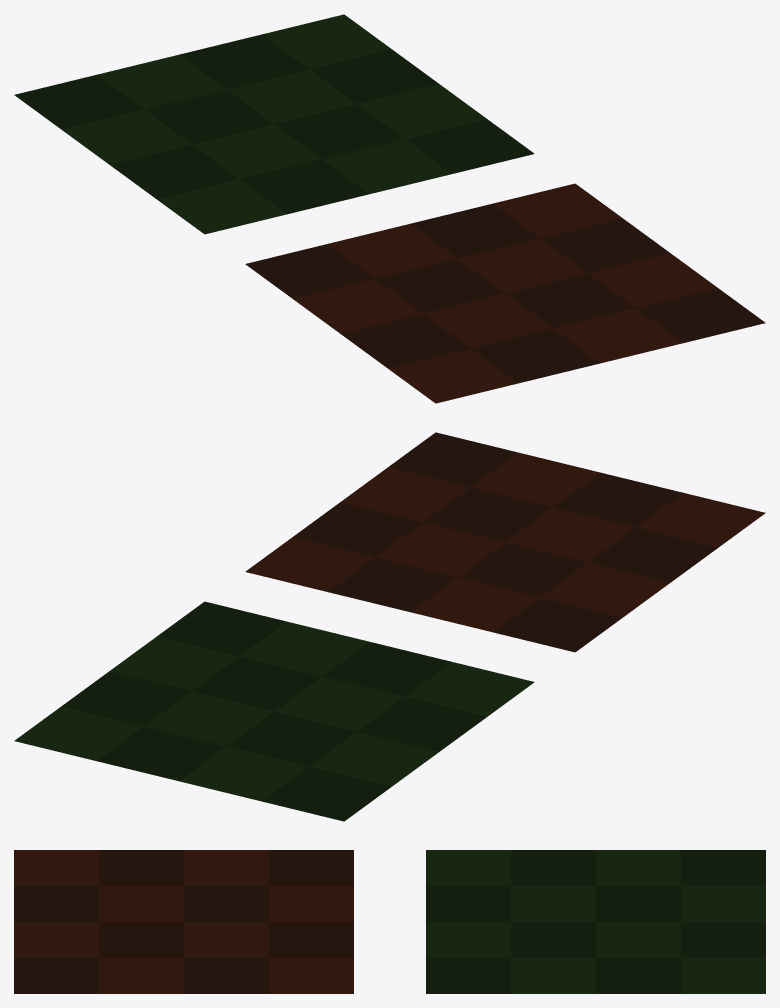
Rendered from FloorAndGrass.fbx.
3 renders of one model, top to bottom at view 1: azimuth 30°, elevation 25°; view 2: azimuth 150°, elevation 25°; view 3: azimuth 270°, elevation 25°, orthographic. The views are drawn at different scales.
Visible parts, largest first — view 1: Plane001, Plane002; view 2: Plane001, Plane002; view 3: Plane001, Plane002.
Boxes of the visible parts, bbox=[...] form: Plane001: bbox=[14, 14, 534, 234]; Plane002: bbox=[245, 183, 765, 403]; Plane001: bbox=[14, 601, 534, 821]; Plane002: bbox=[245, 432, 765, 652]; Plane001: bbox=[426, 850, 765, 993]; Plane002: bbox=[14, 850, 353, 993].
Bounding box in the file's own units: 118 × 7.23e-15 × 261.
